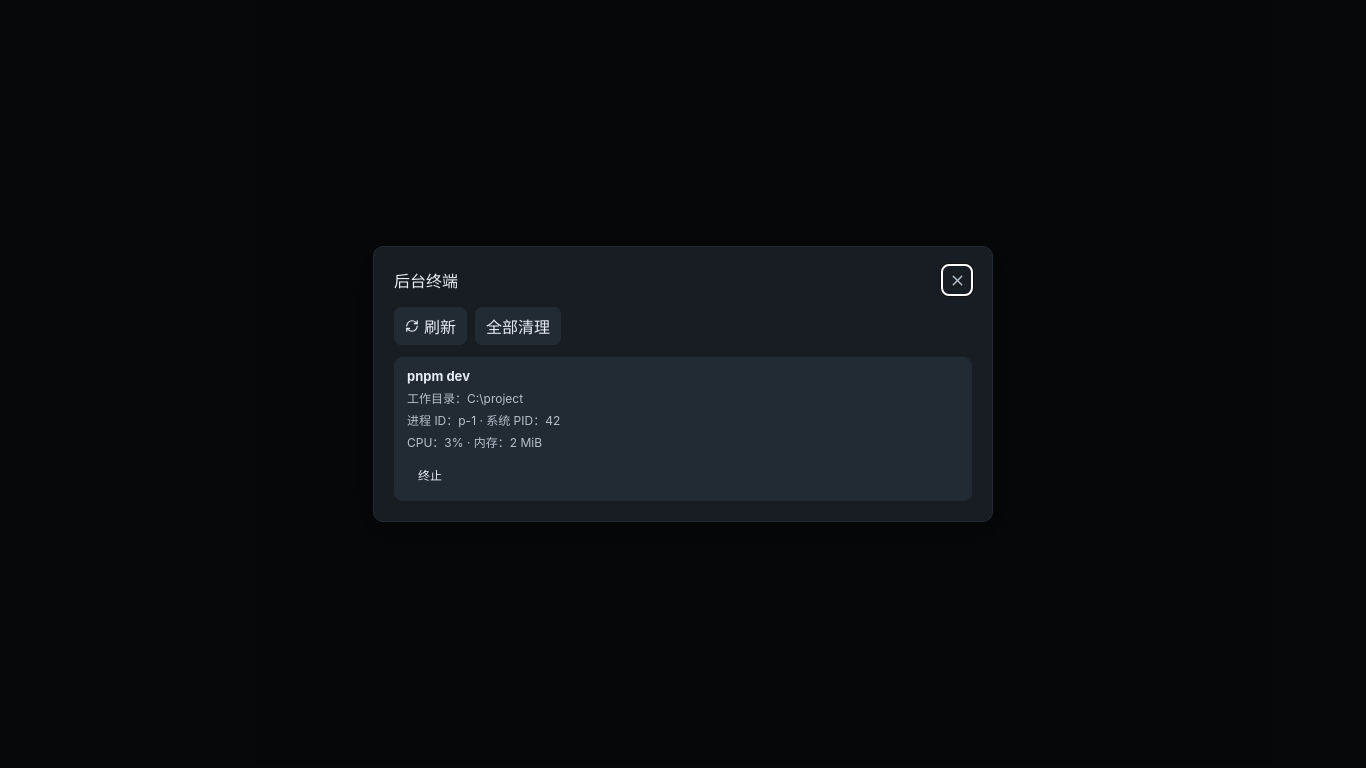
Test: CodexBackgroundTerminalsDialog › confirms cleaning all terminals and retains the list on failure
The image size is (1366, 768).
Expected: the text "pnpm dev" is shown, [407, 368, 470, 384]
Click the button "全部清理": [518, 326] box [475, 307, 561, 345]
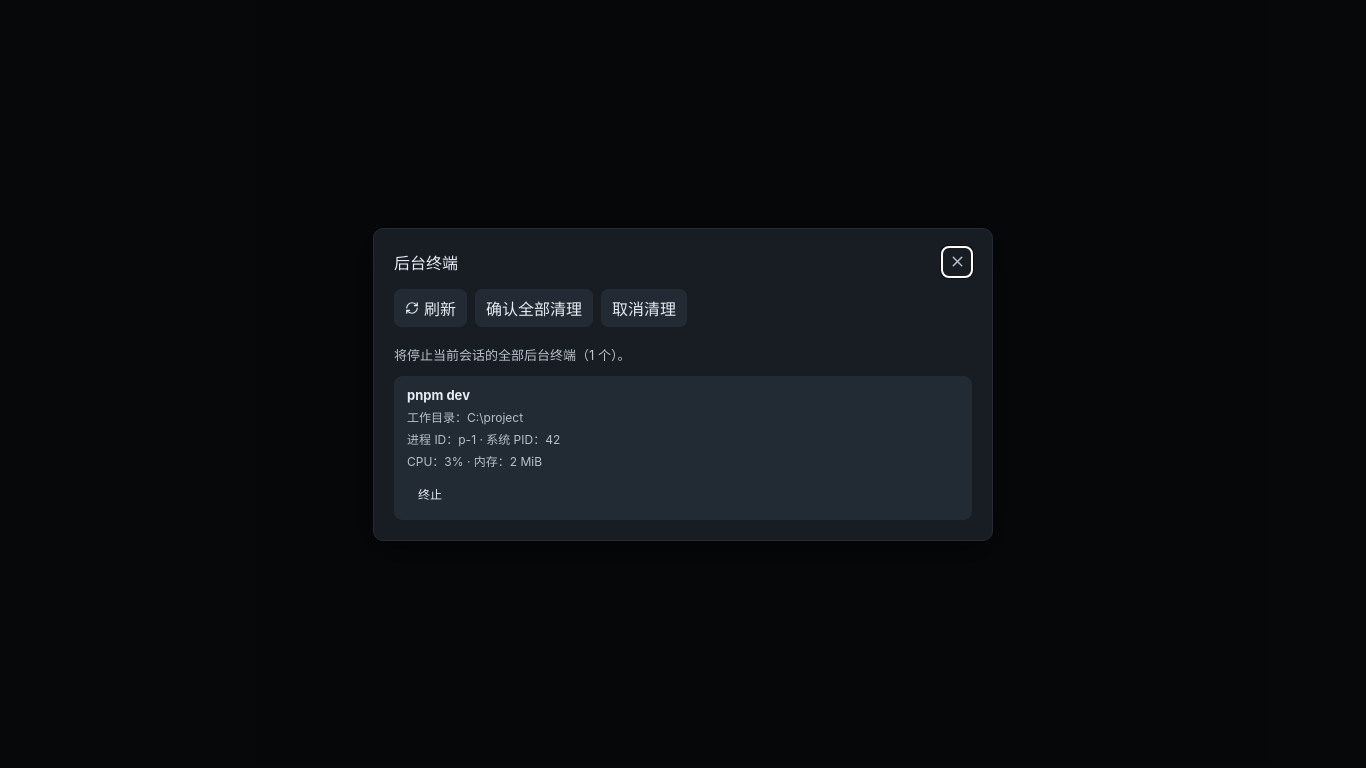
Click the button "确认全部清理": [534, 308] box [475, 288, 593, 326]
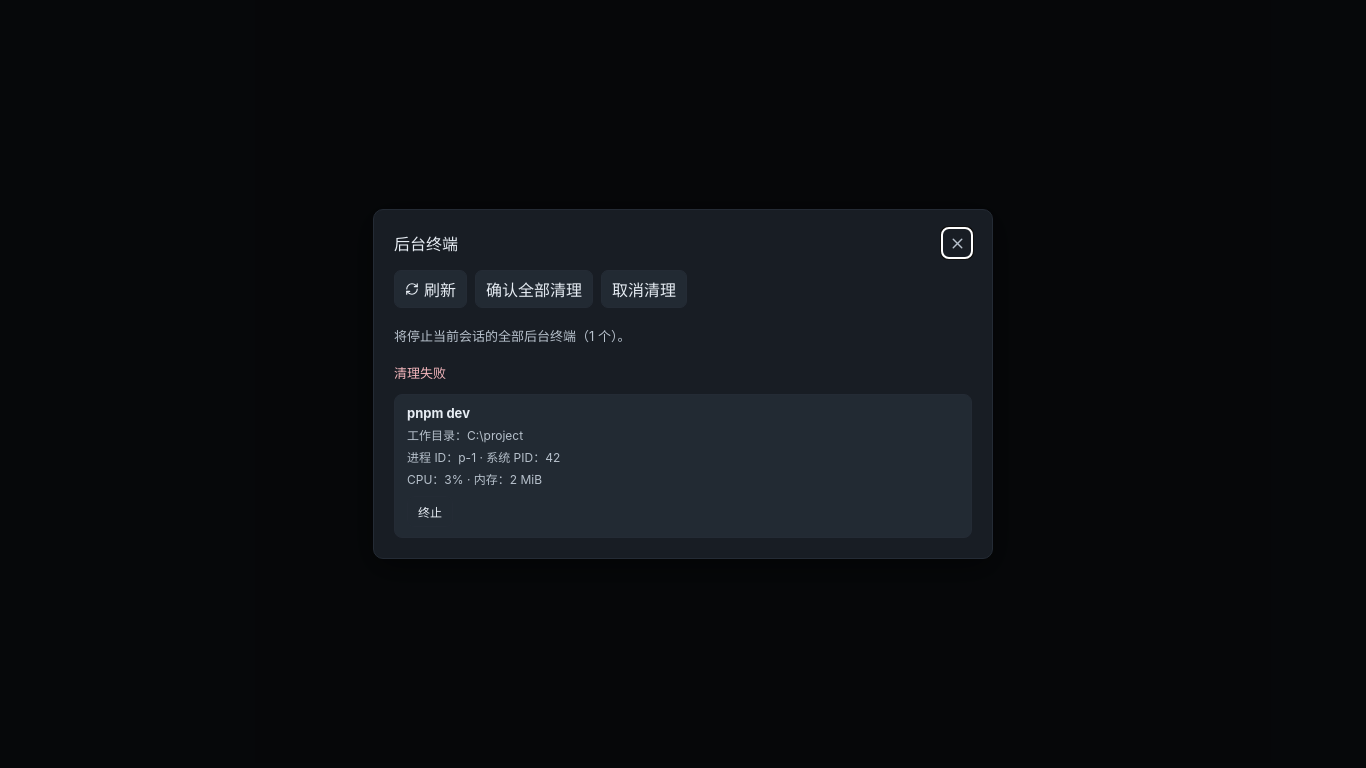
Expected: the text "pnpm dev" is shown, [407, 405, 470, 421]
Now the message reads "清理失败", box [394, 365, 446, 381]
